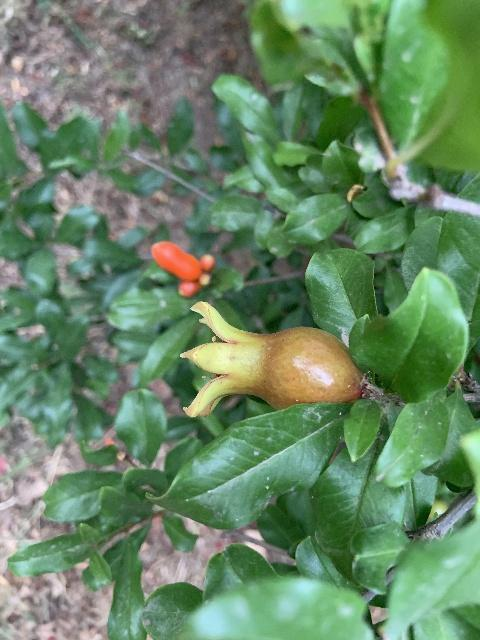bud: (151, 241, 200, 279), (178, 280, 199, 297), (199, 254, 215, 273)
early-fruit: (179, 303, 362, 416)
